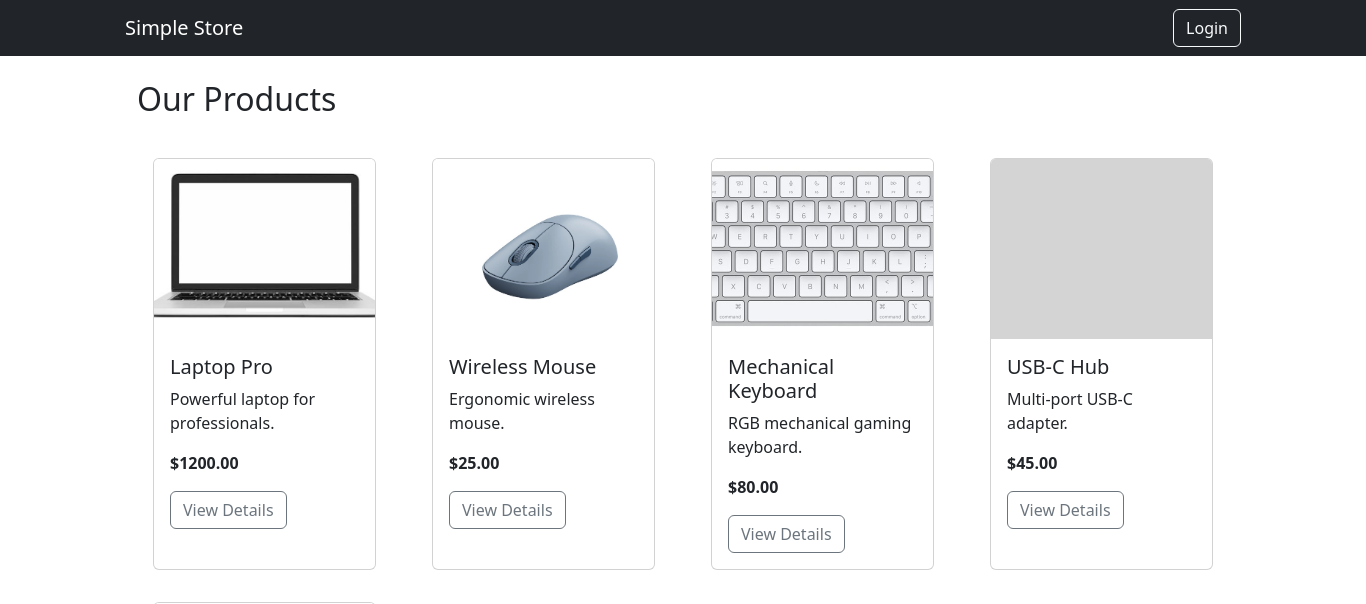
it: Auth E2E Tests › should login successfully
The image size is (1366, 604).
Click the button with test id ".navbar [data-testid=\"nav-login\"]" at (1207, 28), box [1173,9,1241,47]
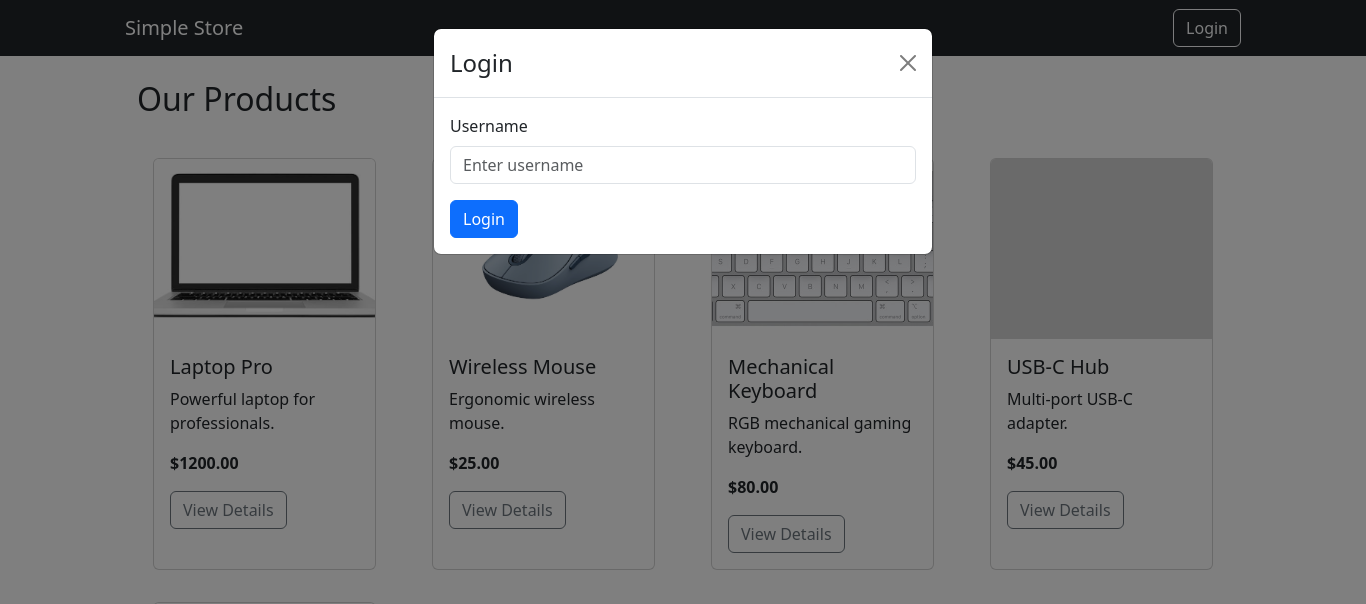
Type "TestUser" into the field with test id "login-username" at (683, 165), box [450,146,916,184]
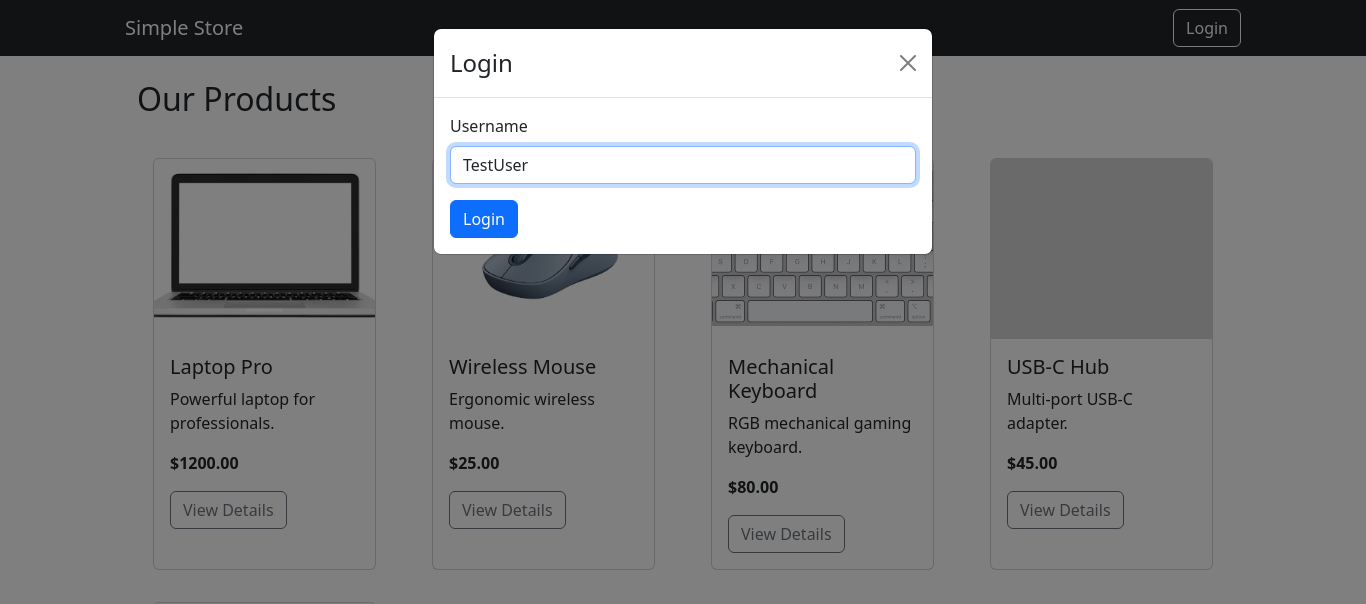
Click the button with test id "login-submit" at (484, 219), box [450,200,518,238]
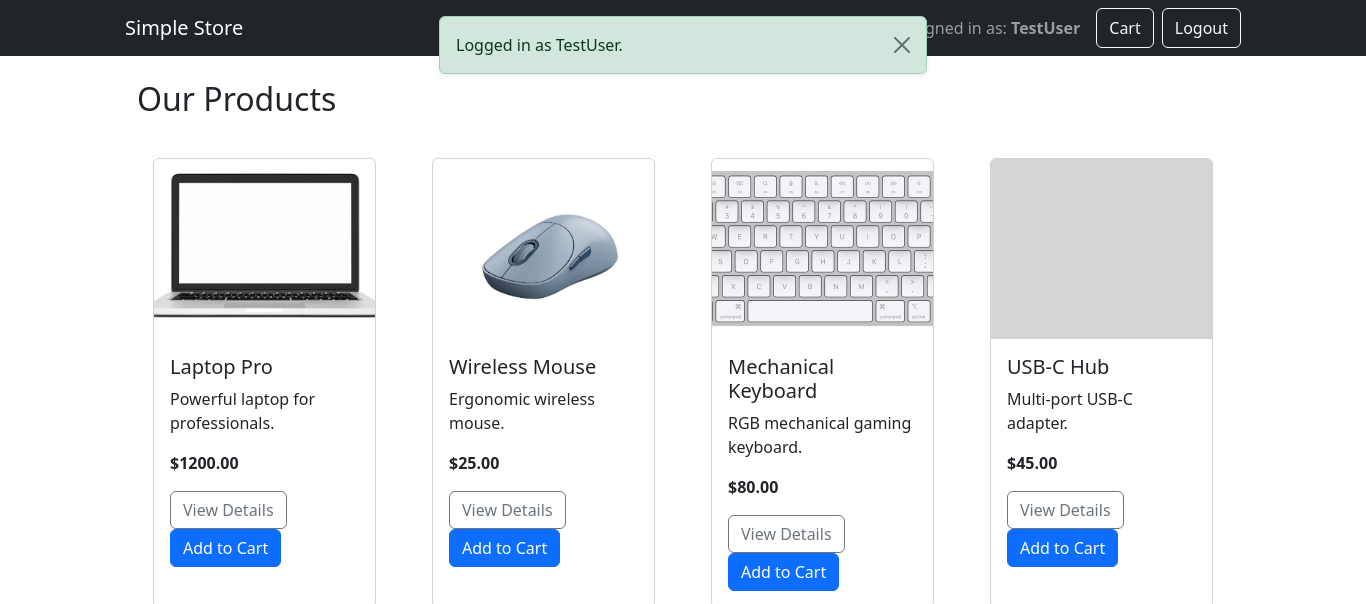
Check: the text with test id ".navbar [data-testid=\"user-info\"]" reads "TestUser", box [1011,17,1080,39]
